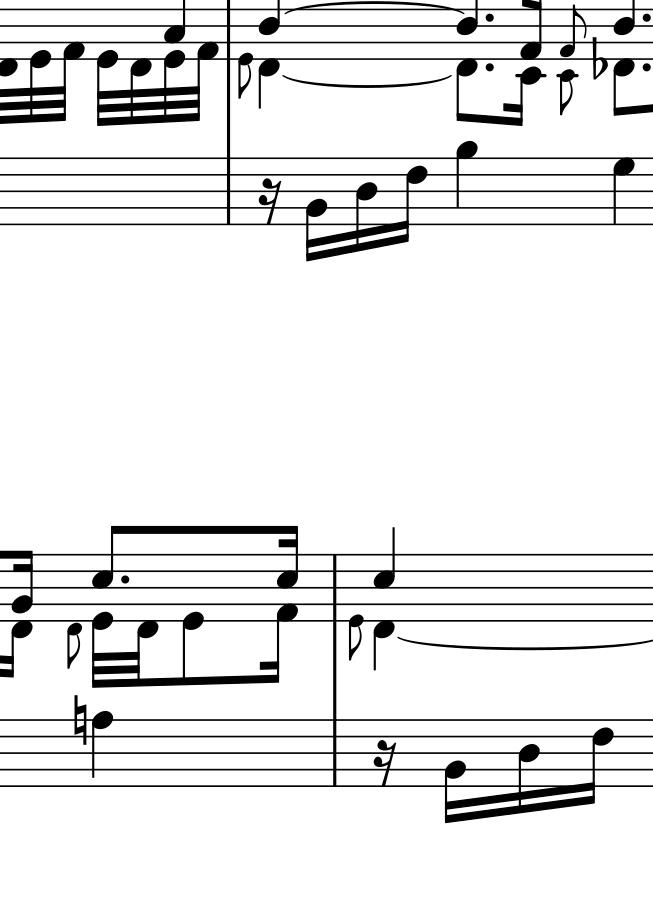16_-1: (65, 554, 82, 672)
16_1_5: (259, 525, 302, 685)
16_2: (303, 156, 329, 262), (443, 717, 468, 824), (10, 548, 34, 617)
16_4: (352, 155, 379, 254), (515, 718, 542, 817)
16_6: (580, 717, 615, 807), (394, 154, 428, 245)
32_-1: (129, 551, 160, 687)
4_-1_5: (372, 525, 398, 669)
4_7: (611, 157, 636, 227)
4_8: (90, 709, 113, 788)
4_9: (454, 139, 479, 227)
8_0: (181, 550, 204, 686)
Flat: (590, 36, 607, 81)
Natural: (71, 693, 87, 747)
Rests16: (372, 739, 398, 789), (257, 176, 282, 227)
Single_barline: (220, 156, 237, 225), (326, 719, 344, 784), (326, 555, 343, 620), (220, 1, 237, 59)
Slur: (285, 73, 453, 88)
dot: (482, 59, 497, 75), (639, 11, 653, 27), (117, 572, 131, 588), (482, 11, 497, 25), (640, 60, 653, 76)
